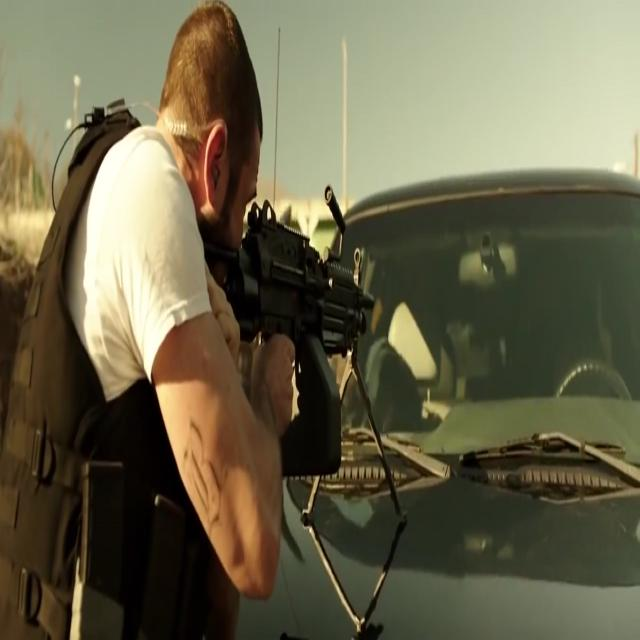Weapon: (206, 209, 401, 488)
